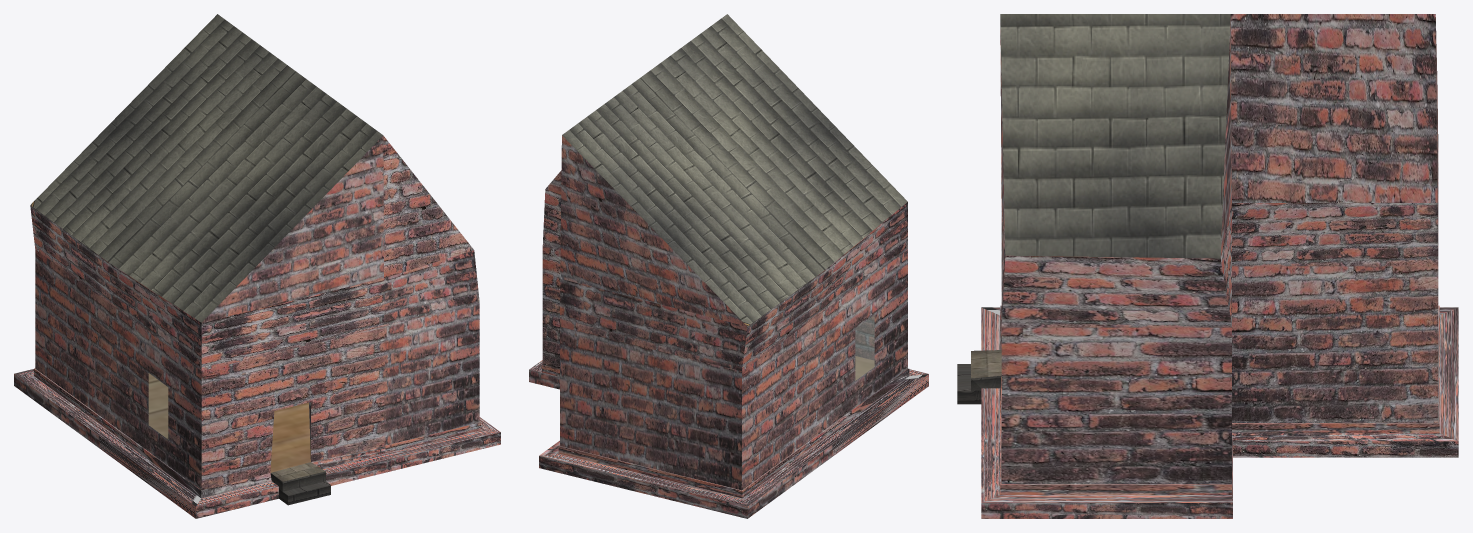
The model's file is bar.glb.
3 renders of one model, left to right at view 1: azimuth 30°, elevation 25°; view 2: azimuth 150°, elevation 25°; view 3: azimuth 270°, elevation 25°, orthographic. The views are drawn at different scales.
Parts seen in each view (by area): view 1: building; view 2: building; view 3: building.
Boxes of the visible parts, bbox=[...] form: building: bbox=[14, 14, 500, 518]; building: bbox=[529, 14, 928, 518]; building: bbox=[957, 14, 1458, 518].
Size of what is drawn, in the model's own units: 14.16 by 14.68 by 15.35.
Materials: 2 (1 with a texture image).
